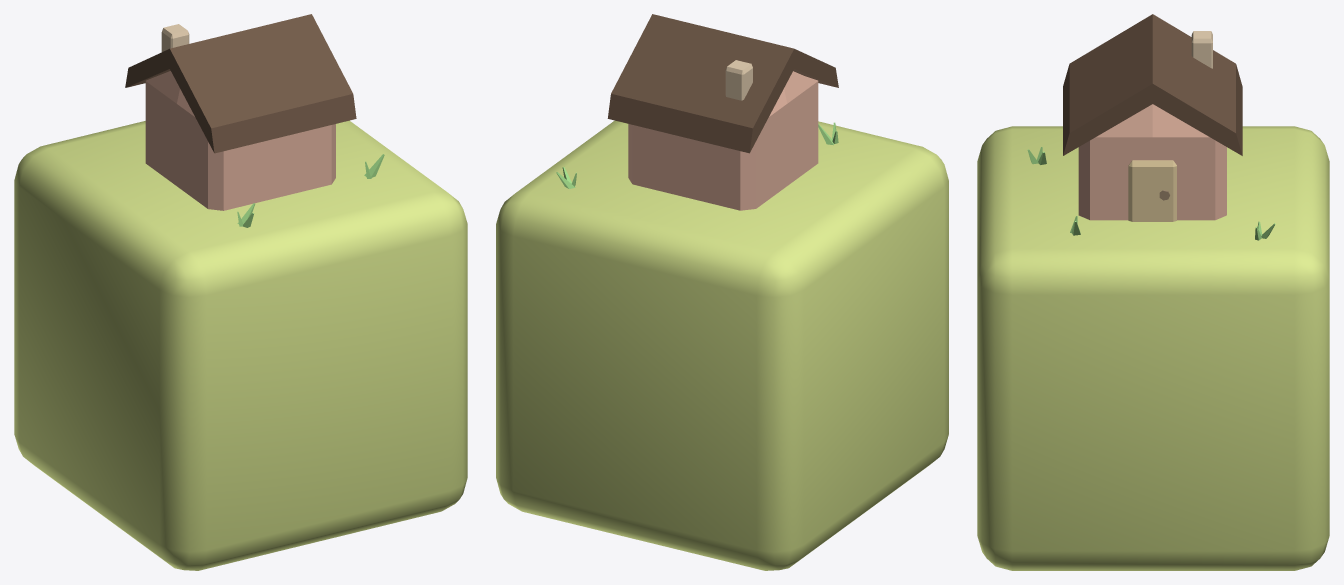
The model's file is village1.fbx.
3 renders of one model, left to right at view 1: azimuth 30°, elevation 25°; view 2: azimuth 150°, elevation 25°; view 3: azimuth 270°, elevation 25°, orthographic.
Visible parts, largest first — view 1: Cube.044, Cube.048, Cube.045, Cube.055; view 2: Cube.044, Cube.048, Cube.045, Cube.055; view 3: Cube.044, Cube.048, Cube.045, Cube.046, Cube.055.
Part boxes in pixels (x1,y1,x2,y2): Cube.044: [14, 120, 467, 570]; Cube.048: [125, 14, 356, 153]; Cube.045: [145, 71, 335, 210]; Cube.055: [161, 24, 189, 51]; Cube.044: [496, 120, 948, 570]; Cube.048: [607, 14, 838, 153]; Cube.045: [628, 71, 818, 210]; Cube.055: [725, 60, 752, 100]; Cube.044: [977, 126, 1329, 570]; Cube.048: [1063, 14, 1242, 155]; Cube.045: [1078, 104, 1226, 220]; Cube.046: [1128, 160, 1176, 221]; Cube.055: [1191, 31, 1212, 68].
Bounding box in the file's own units: 200 × 288 × 200.
